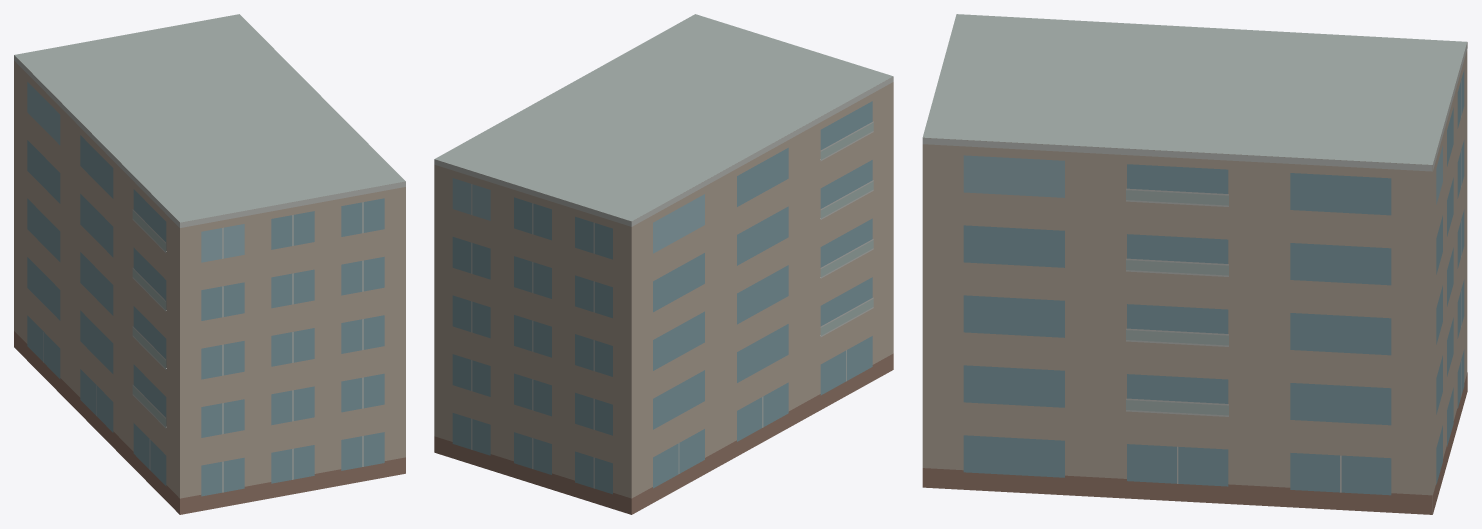
The model's file is survey-upis-32881147.glb.
3 renders of one model, left to right at view 1: azimuth 30°, elevation 25°; view 2: azimuth 150°, elevation 25°; view 3: azimuth 270°, elevation 25°, orthographic. The views are drawn at different scales.
Visible parts, largest first — view 1: survey-upis-32881147.tmp; view 2: survey-upis-32881147.tmp; view 3: survey-upis-32881147.tmp.
Part boxes in pixels (x1,y1,x2,y2): survey-upis-32881147.tmp: [14, 14, 405, 514]; survey-upis-32881147.tmp: [434, 14, 893, 514]; survey-upis-32881147.tmp: [922, 14, 1467, 514].
Bounding box in the file's own units: 12.14 × 13.1 × 18.5.
